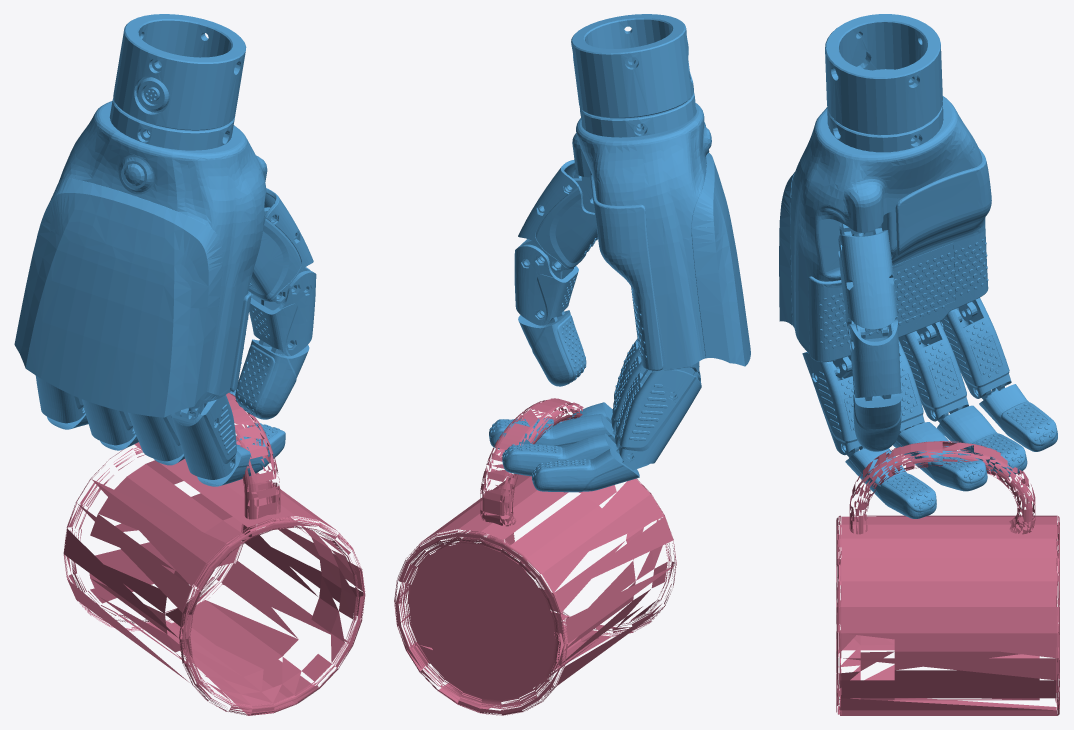
The picture shows the model from 3 angles, left to right: view 1: azimuth 30°, elevation 25°; view 2: azimuth 150°, elevation 25°; view 3: azimuth 270°, elevation 25°; orthographic projection. The views are drawn at different scales.
Parts seen in each view (by area): view 1: 6; view 2: 6; view 3: 6.
Boxes of the visible parts, left/top/right/bottom form: 6: left=14, top=14, right=365, bottom=715; 6: left=394, top=14, right=750, bottom=715; 6: left=779, top=14, right=1059, bottom=715.
Size of the model in its own units: 0.1396 by 0.3042 by 0.121.
